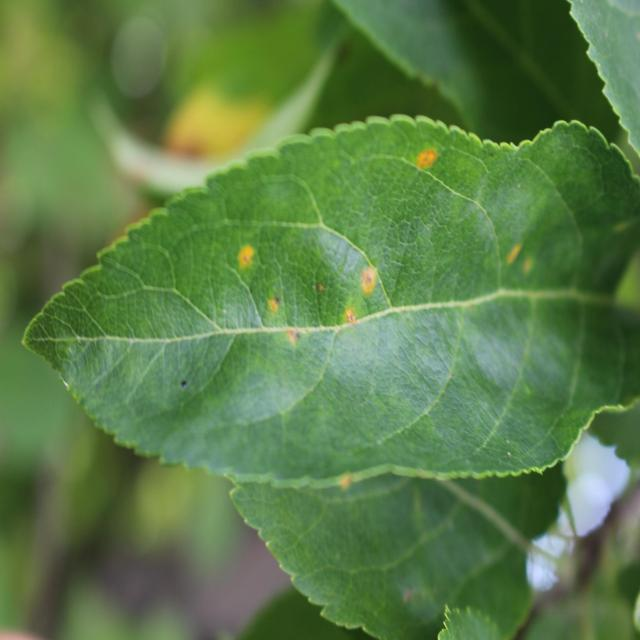Rust: (348, 248, 381, 304), (409, 133, 443, 185), (340, 298, 366, 344), (232, 237, 258, 277), (261, 288, 286, 316), (505, 240, 522, 276)
